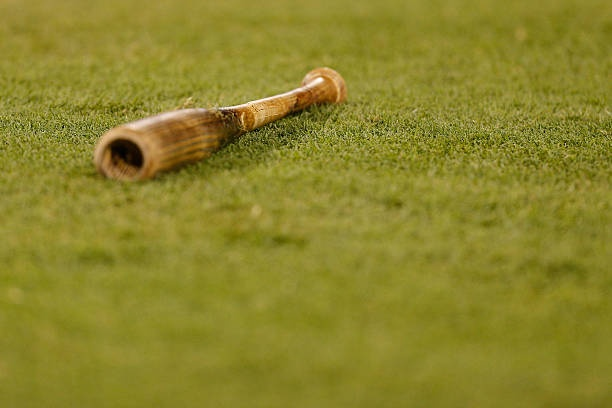bita: (96, 65, 350, 186)
